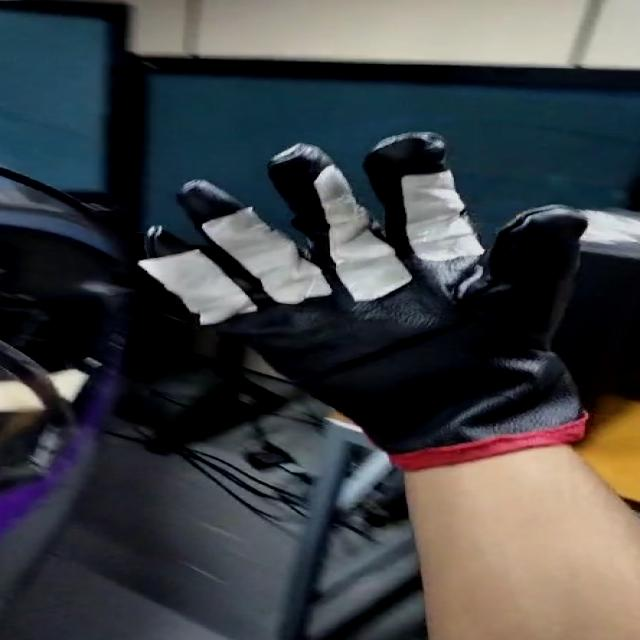Gloves: (144, 133, 619, 460)
